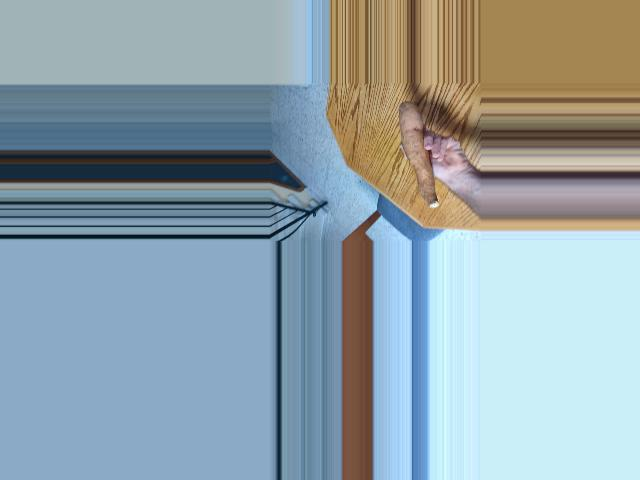sweet_potato: (392, 106, 440, 205)
